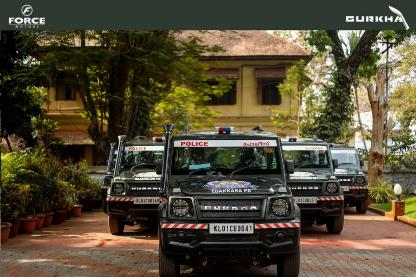priority: (153, 120, 304, 277)
